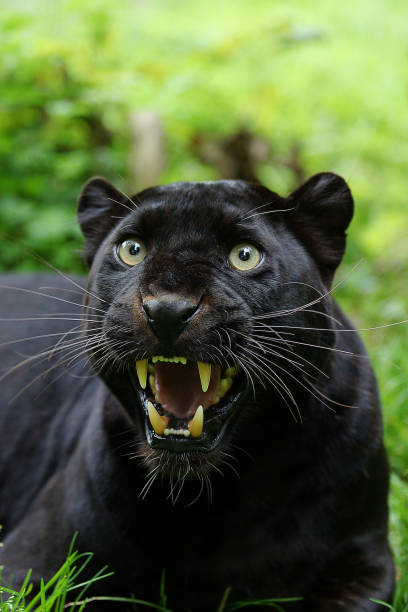panther: (55, 158, 361, 516)
